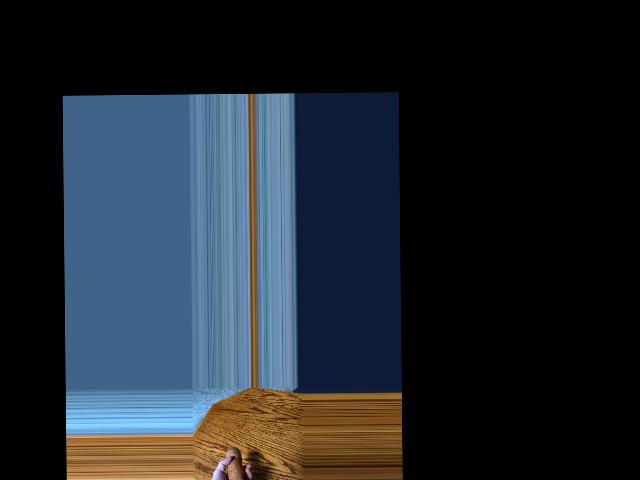sweet_potato: (225, 447, 245, 480)
